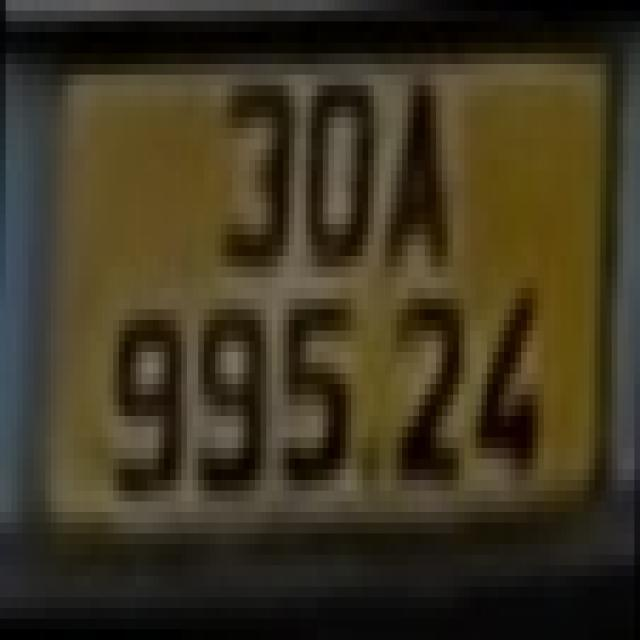0: (306, 64, 380, 267)
2: (390, 288, 464, 491)
3: (220, 75, 294, 266)
4: (476, 277, 550, 491)
5: (277, 288, 357, 491)
9: (108, 298, 182, 502), (192, 298, 266, 491)
A: (379, 75, 459, 266)
